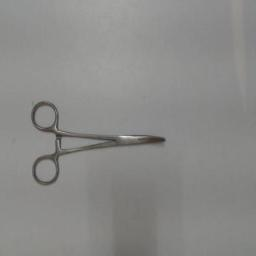Crile Artery Forceps: (28, 95, 170, 189)
